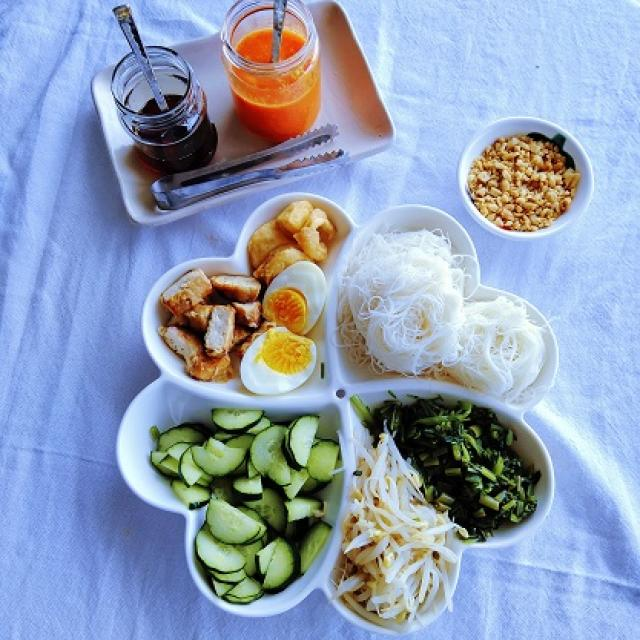Carbohydrate: (342, 224, 554, 400)
Protein: (156, 200, 334, 398)
Taokua: (110, 185, 557, 640)
Vegetable: (149, 410, 539, 629)
